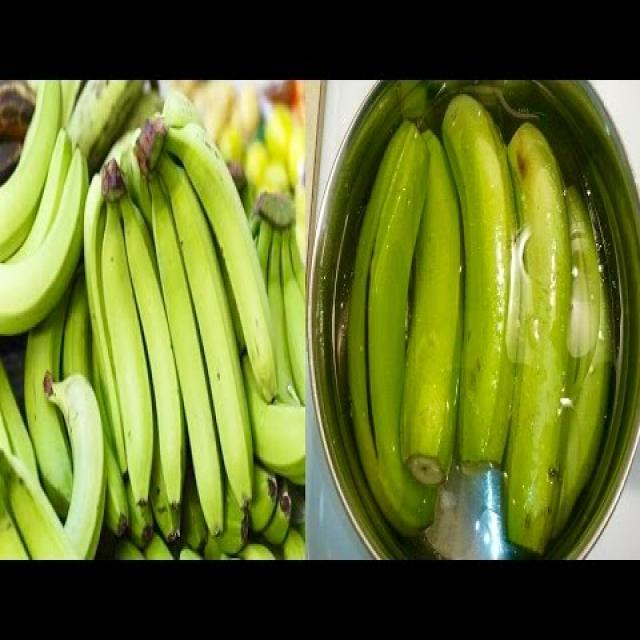banana: (4, 76, 292, 554), (328, 90, 608, 540)
